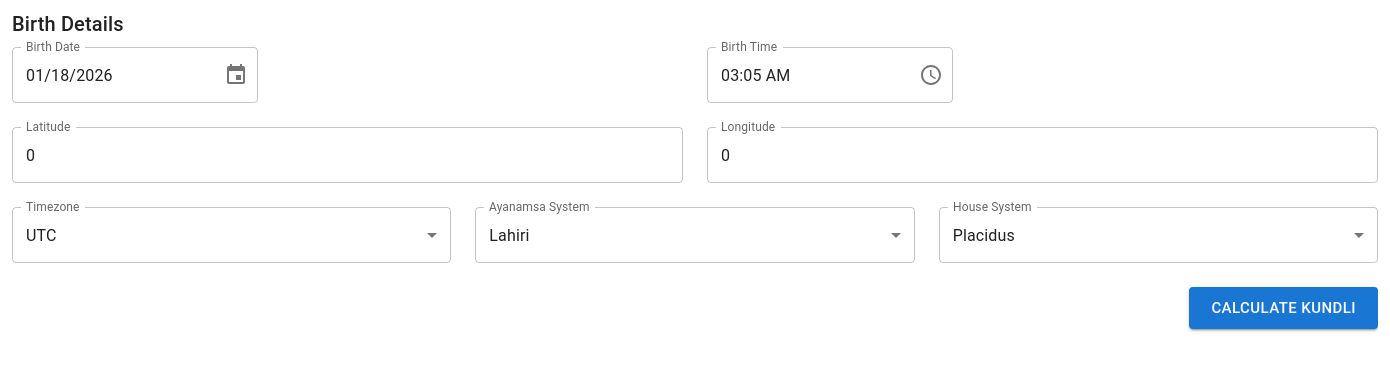
Scenario: KundliForm Component › validates latitude range
This screenshot has width=1390, height=372.
Replace the text in the number field labelled "Latitude" with "91" at (348, 155), box 12,127 -> 683,183
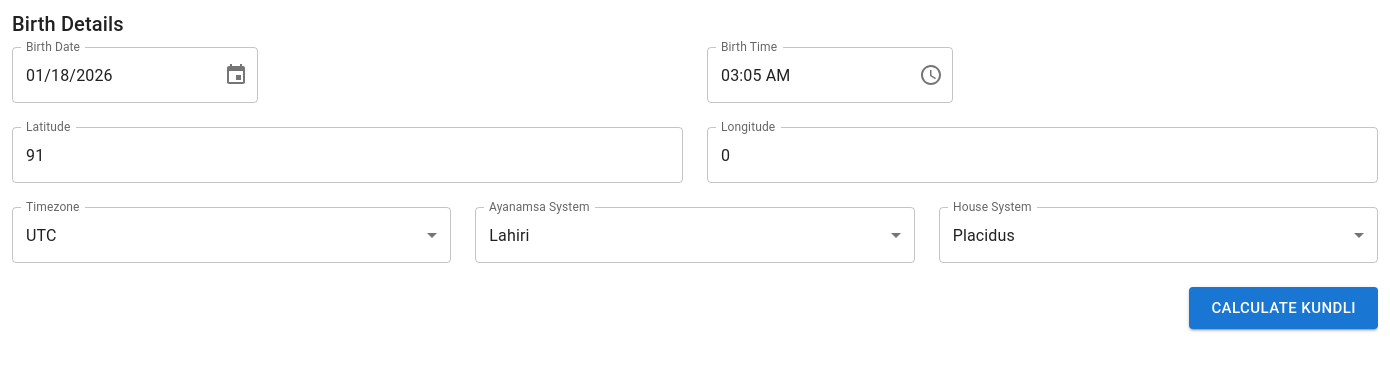
Click the button "Calculate Kundli" at (1284, 308), box 1189,287 -> 1378,329
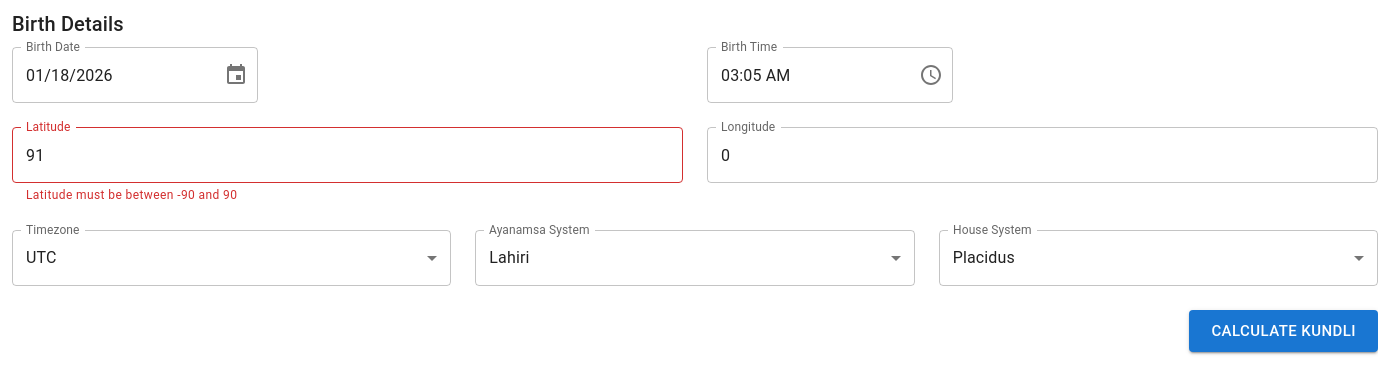
Check: the text "Latitude must be between -90 and 90" is shown, box 26,188 -> 237,202
